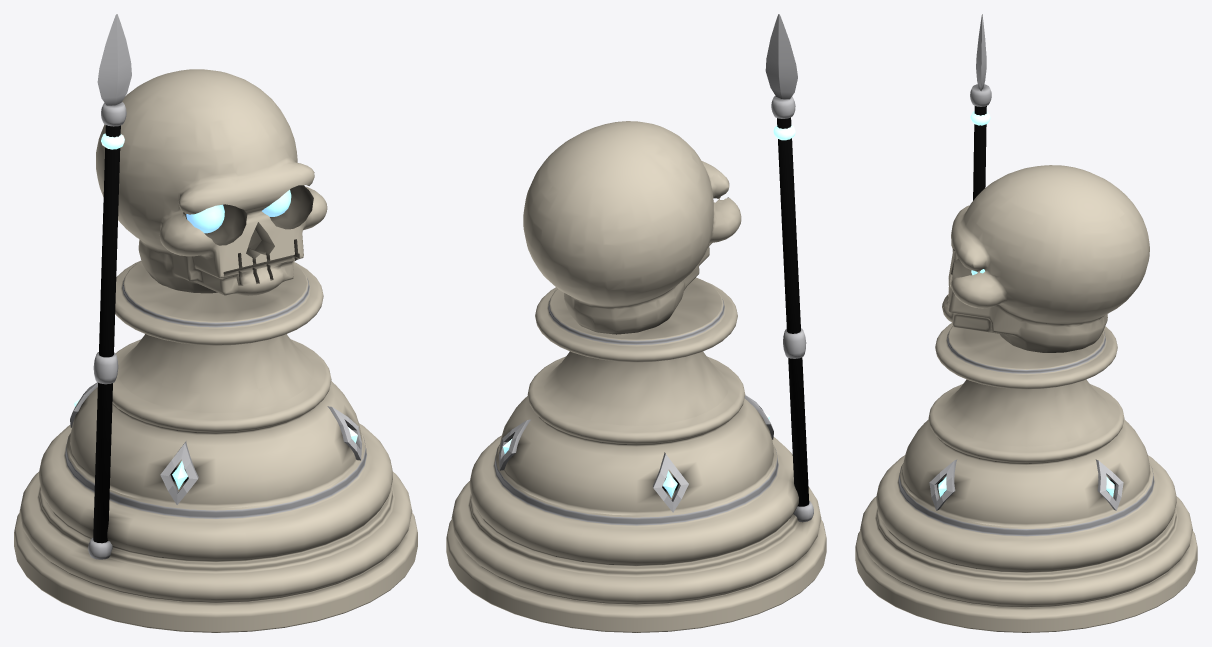
File: spearman.glb
The picture shows the model from 3 angles, left to right: view 1: azimuth 30°, elevation 25°; view 2: azimuth 150°, elevation 25°; view 3: azimuth 270°, elevation 25°; orthographic projection. The views are drawn at different scales.
Visible parts, largest first — view 1: spearman; view 2: spearman; view 3: spearman.
Boxes of the visible parts, x1,y1,x2,y2 form: spearman: [14, 14, 417, 632]; spearman: [446, 14, 826, 632]; spearman: [855, 14, 1197, 632].
Size of the model in its own units: 0.72 by 1.15 by 0.72.
